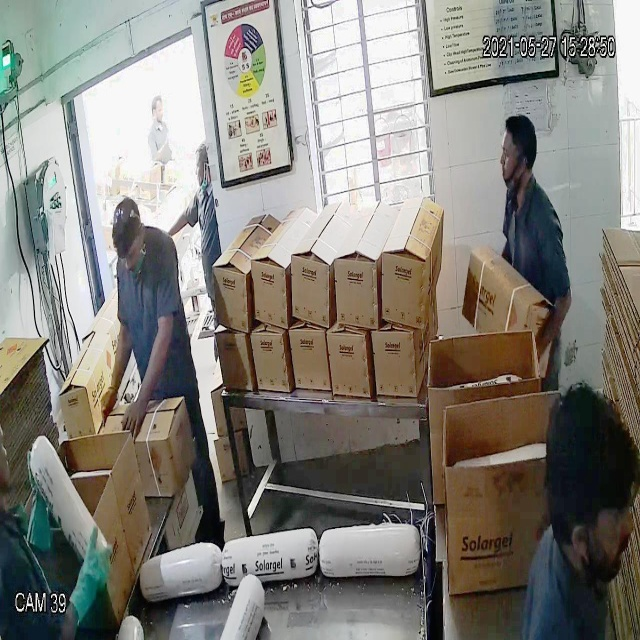Sin_gafas: (494, 137, 530, 171)
